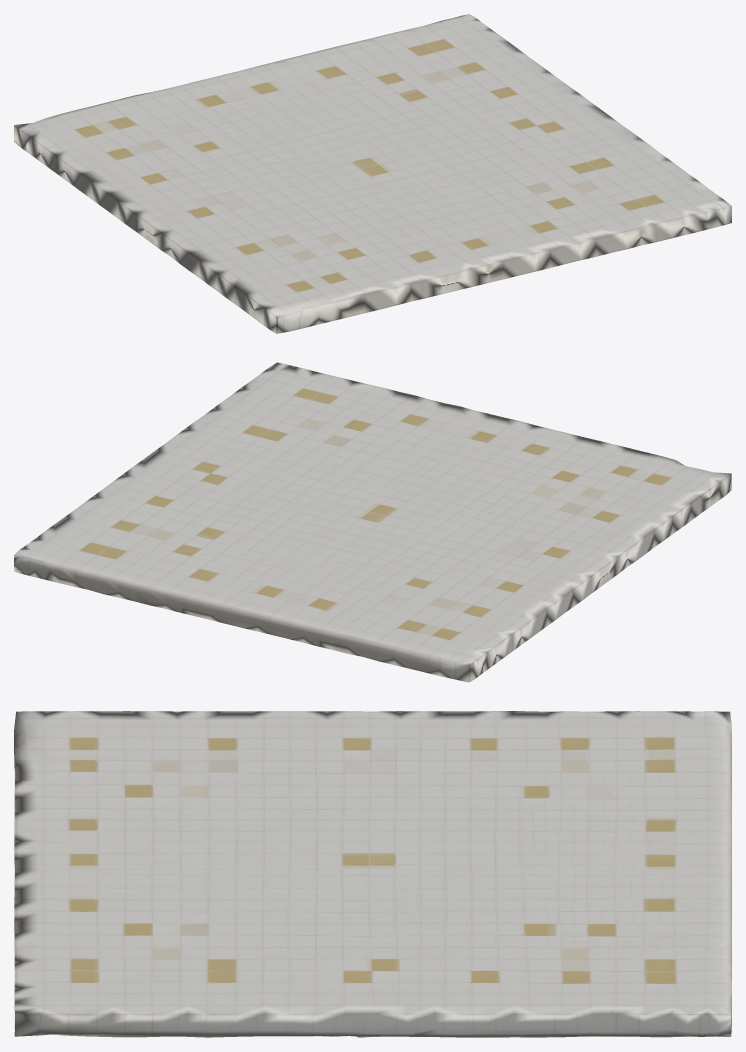
The model's file is Meshy_AI_Tiled_Pattern_Surface_0104092134_texture.fbx.
3 renders of one model, top to bottom at view 1: azimuth 30°, elevation 25°; view 2: azimuth 150°, elevation 25°; view 3: azimuth 270°, elevation 25°, orthographic. The views are drawn at different scales.
Parts seen in each view (by area): view 1: Mesh_0.002; view 2: Mesh_0.002; view 3: Mesh_0.002.
Part boxes in pixels (box(x1,y1,x2,y2)): Mesh_0.002: box(14, 14, 731, 333); Mesh_0.002: box(14, 362, 731, 682); Mesh_0.002: box(14, 711, 731, 1037).
Size of the model in its own units: 192 by 7.49 by 192.
1 material, 1 textured.
